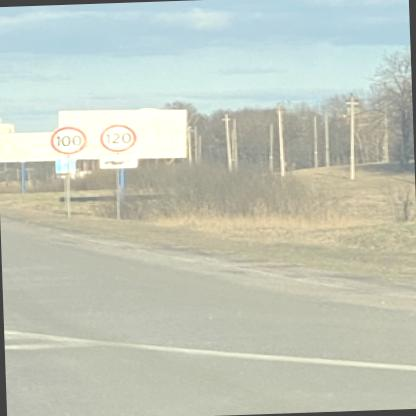speedlimit: (46, 124, 86, 154), (97, 122, 135, 152)
